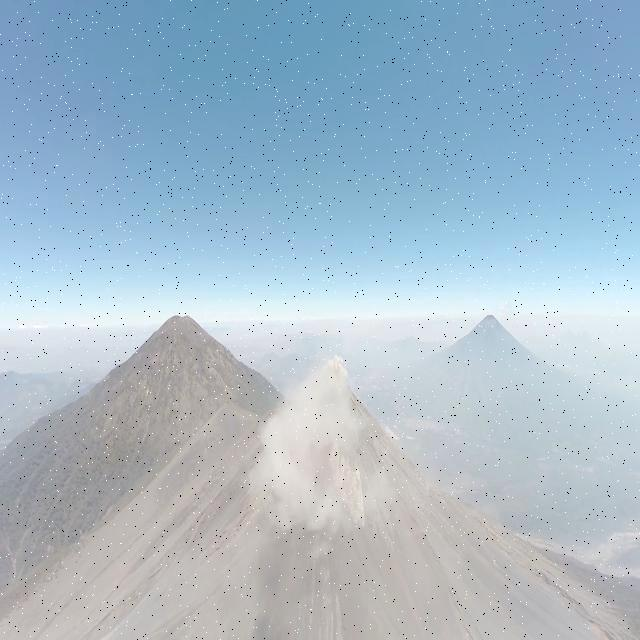Plume: (254, 357, 368, 557)
Summit: (321, 343, 381, 532)
